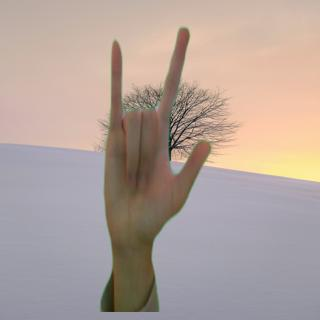ILY: (98, 24, 216, 251)
